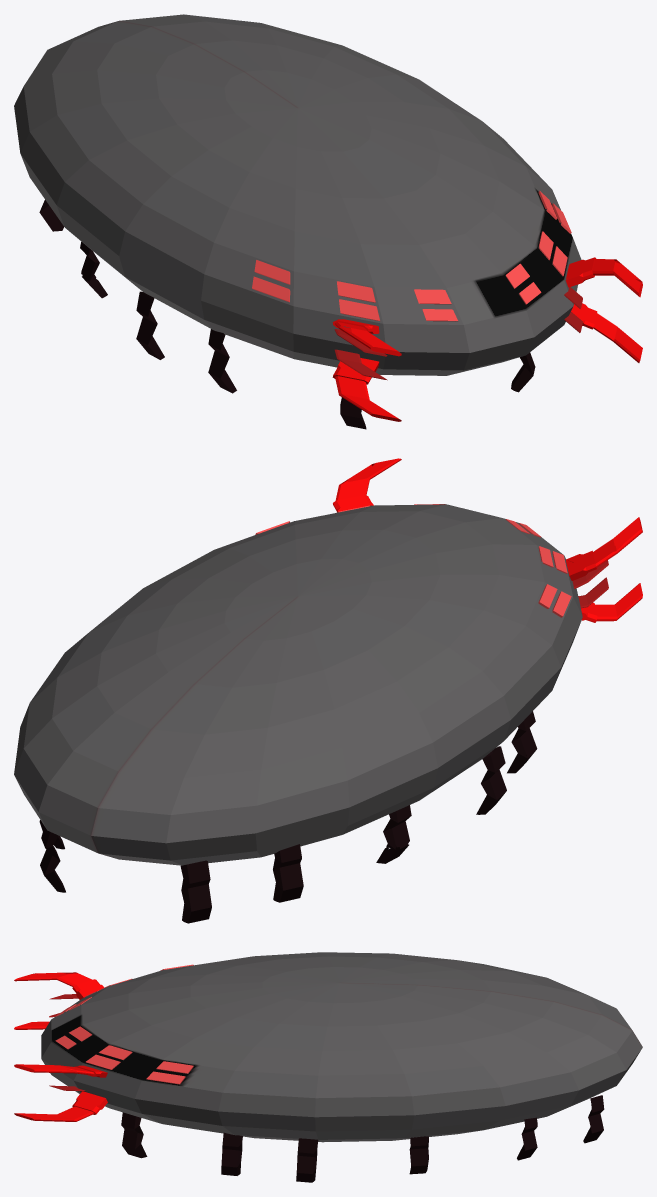
The model's file is Charger.fbx.
3 views of the same model, one above another, from view 1: azimuth 30°, elevation 25°; view 2: azimuth 150°, elevation 25°; view 3: azimuth 270°, elevation 25° (orthographic). The views are drawn at different scales.
Parts seen in each view (by area): view 1: Sphere.002; view 2: Sphere.002; view 3: Sphere.002.
Boxes of the visible parts, x1,y1,x2,y2 form: Sphere.002: (14,14,642,429); Sphere.002: (14,458,642,923); Sphere.002: (14,952,642,1182).
Bounding box in the file's own units: 230 × 110 × 436.
